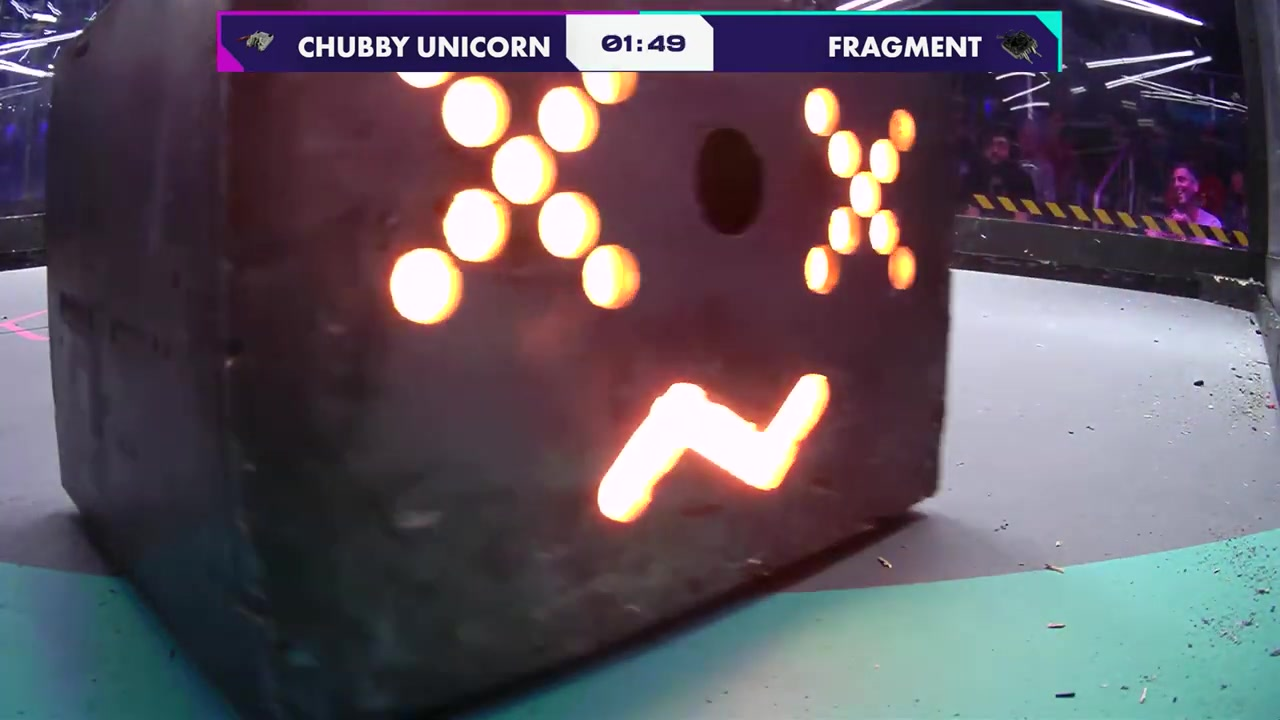housebot: (47, 4, 948, 707)
